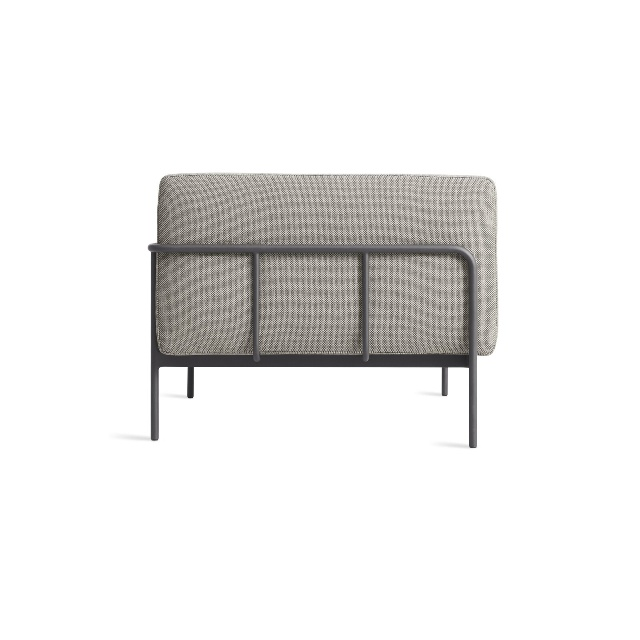obstacle: (150, 174, 497, 446)
